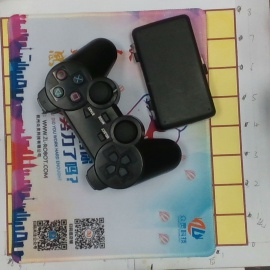remote: (36, 37, 182, 190)
